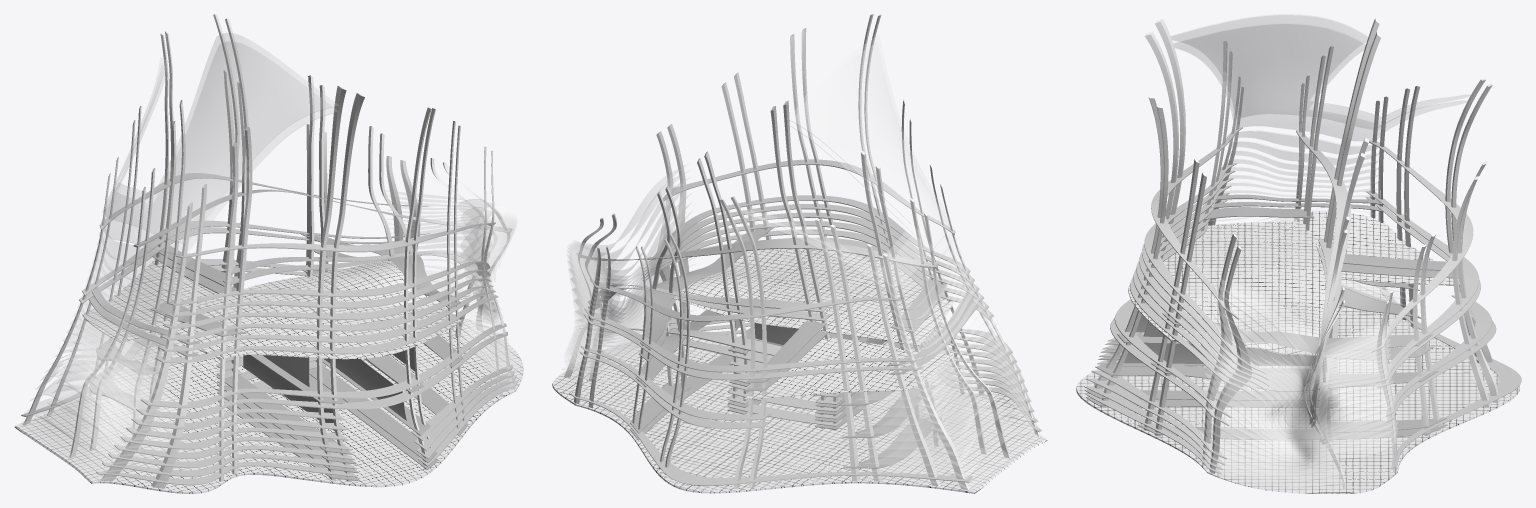
The picture shows the model from 3 angles, left to right: view 1: azimuth 30°, elevation 25°; view 2: azimuth 150°, elevation 25°; view 3: azimuth 270°, elevation 25°; orthographic projection. The views are drawn at different scales.
Parts seen in each view (by area): view 1: FUP-EXPOERIENCE-re, Merged Objects 8, Merged Objects 6; view 2: FUP-EXPOERIENCE-re, Merged Objects 8, Merged Objects 6; view 3: FUP-EXPOERIENCE-re, Merged Objects 8, Merged Objects 6.
Part boxes in pixels (<box>): FUP-EXPOERIENCE-re: <box>21,14,518,488</box>; Merged Objects 8: <box>18,33,522,481</box>; Merged Objects 6: <box>14,260,523,493</box>; FUP-EXPOERIENCE-re: <box>564,14,1042,489</box>; Merged Objects 8: <box>558,35,1043,490</box>; Merged Objects 6: <box>552,248,1047,493</box>; FUP-EXPOERIENCE-re: <box>1084,18,1521,489</box>; Merged Objects 8: <box>1171,14,1470,492</box>; Merged Objects 6: <box>1076,211,1519,493</box>.
Bounding box in the file's own units: 41.67 × 31.74 × 35.65.
5 materials, 1 textured.
